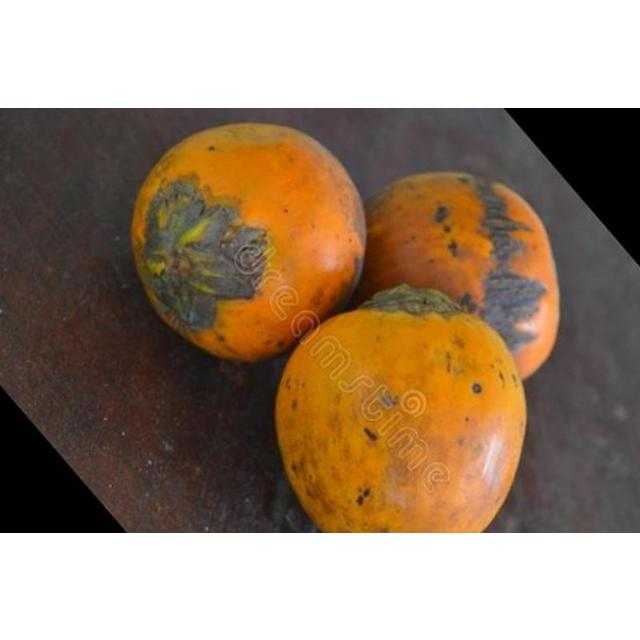good: (279, 287, 525, 528), (133, 124, 365, 363), (358, 172, 556, 380)
